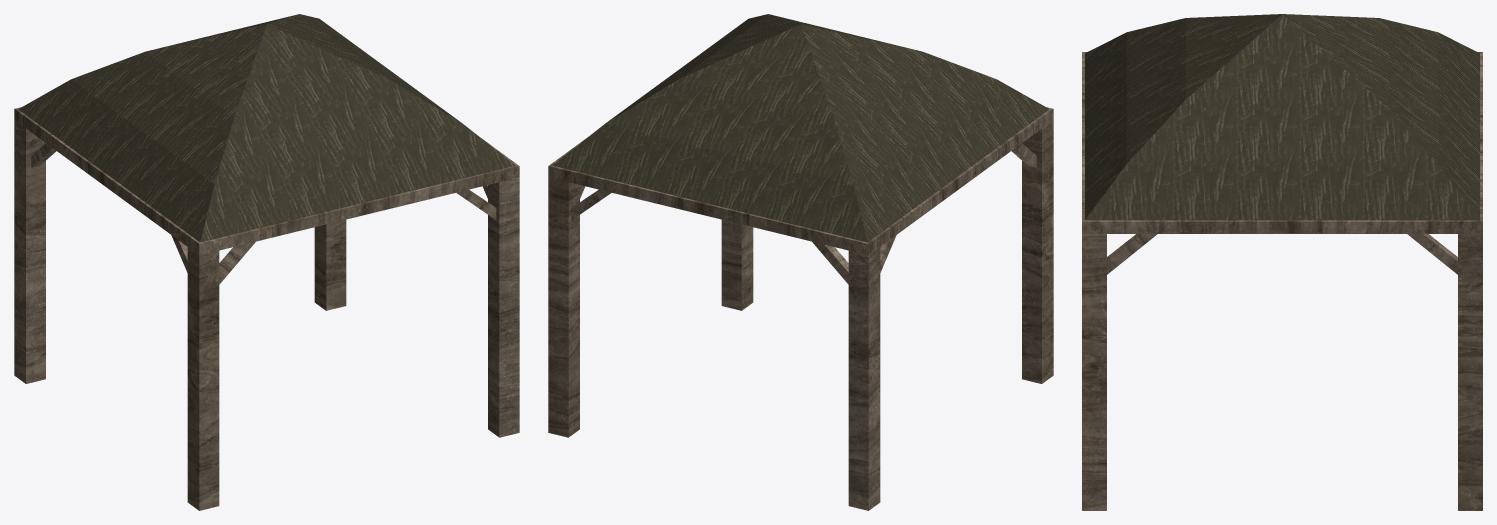
Rendered from generic_farmstead.glb.
3 views of the same model, side by side, from view 1: azimuth 30°, elevation 25°; view 2: azimuth 150°, elevation 25°; view 3: azimuth 270°, elevation 25° (orthographic). The views are drawn at different scales.
Visible parts, largest first — view 1: GenericFarmstead; view 2: GenericFarmstead; view 3: GenericFarmstead.
Part boxes in pixels (x1,y1,x2,y2): GenericFarmstead: (14,14,519,510); GenericFarmstead: (548,14,1053,510); GenericFarmstead: (1082,14,1482,510).
Size of the model in its own units: 3.94 by 4.47 by 3.94.
1 material, 1 textured.
